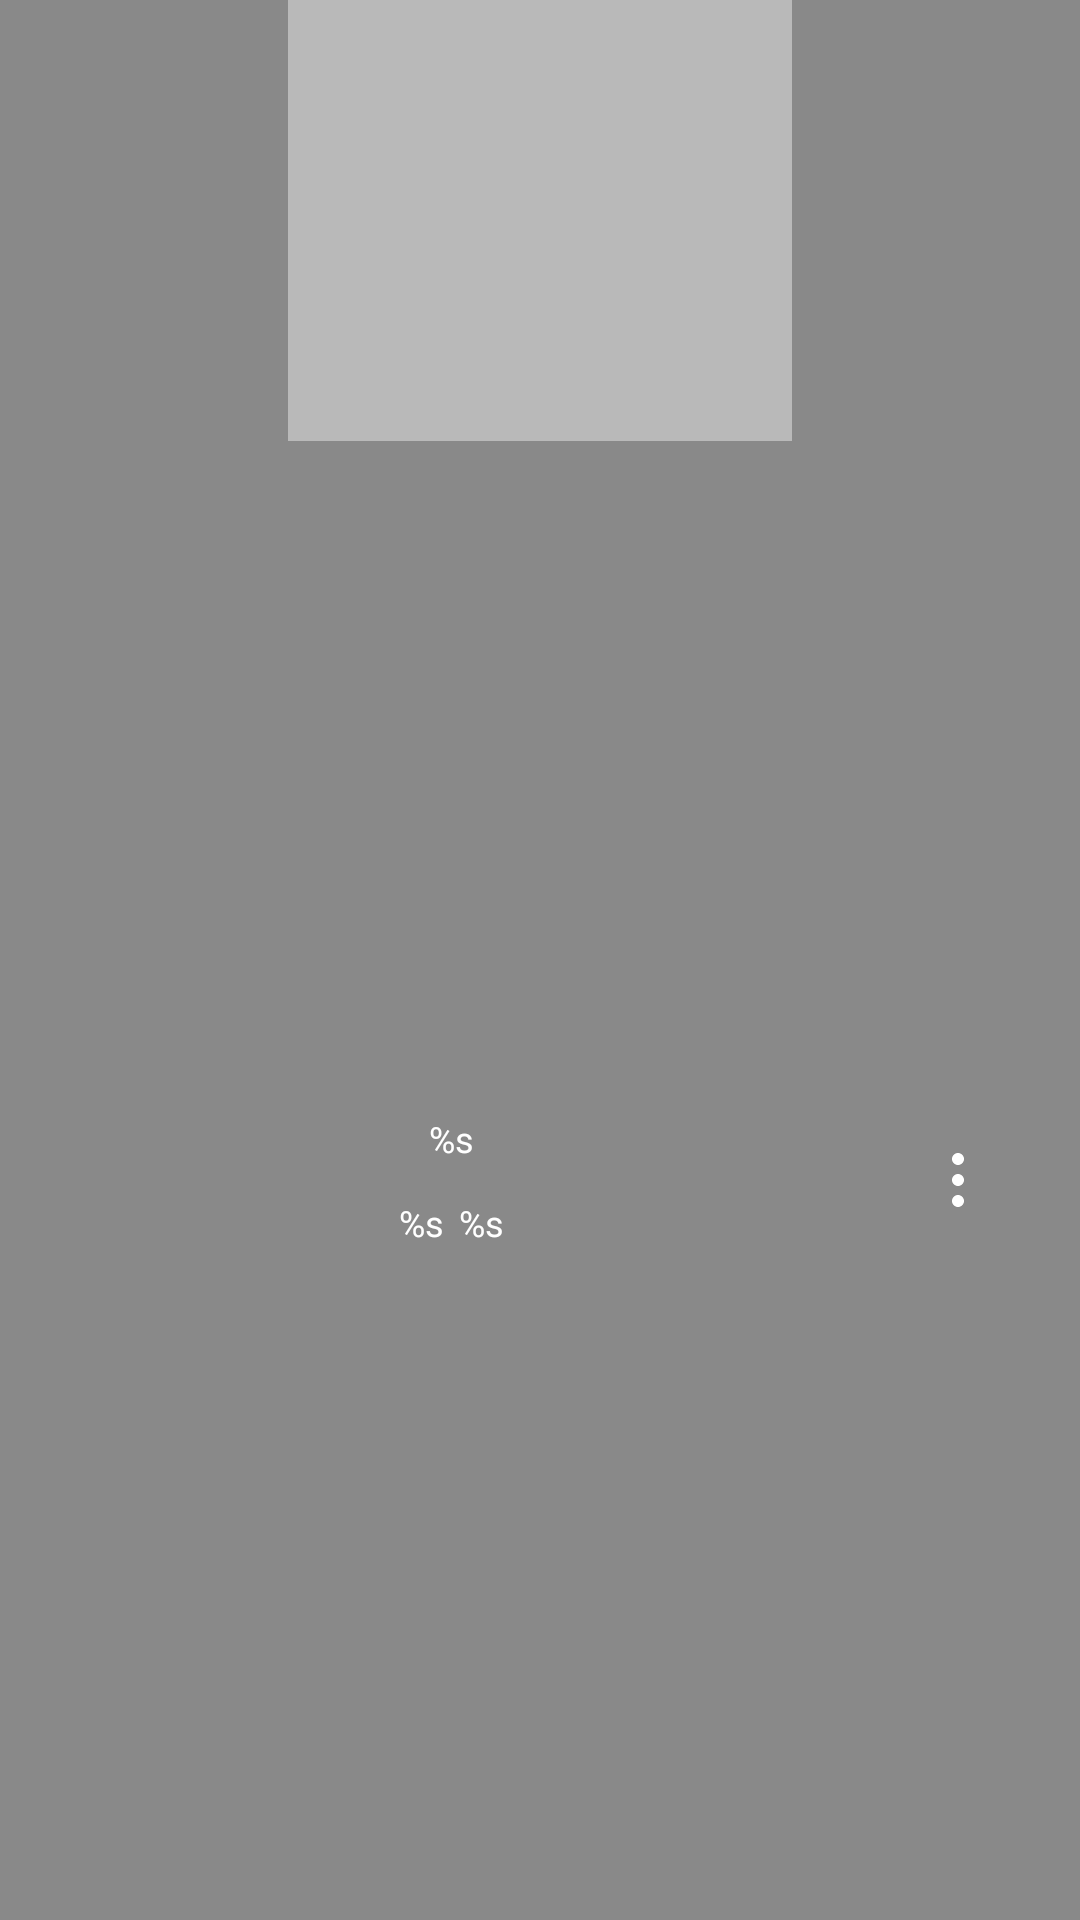

Icon click points for this 1080px×1920px phone screenshot, format [x,y]:
three dot mnu: [958,1180]
